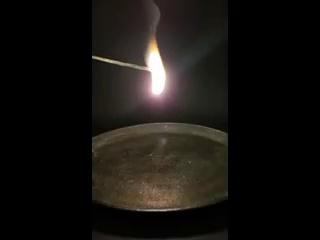Fire: (144, 25, 165, 95)
